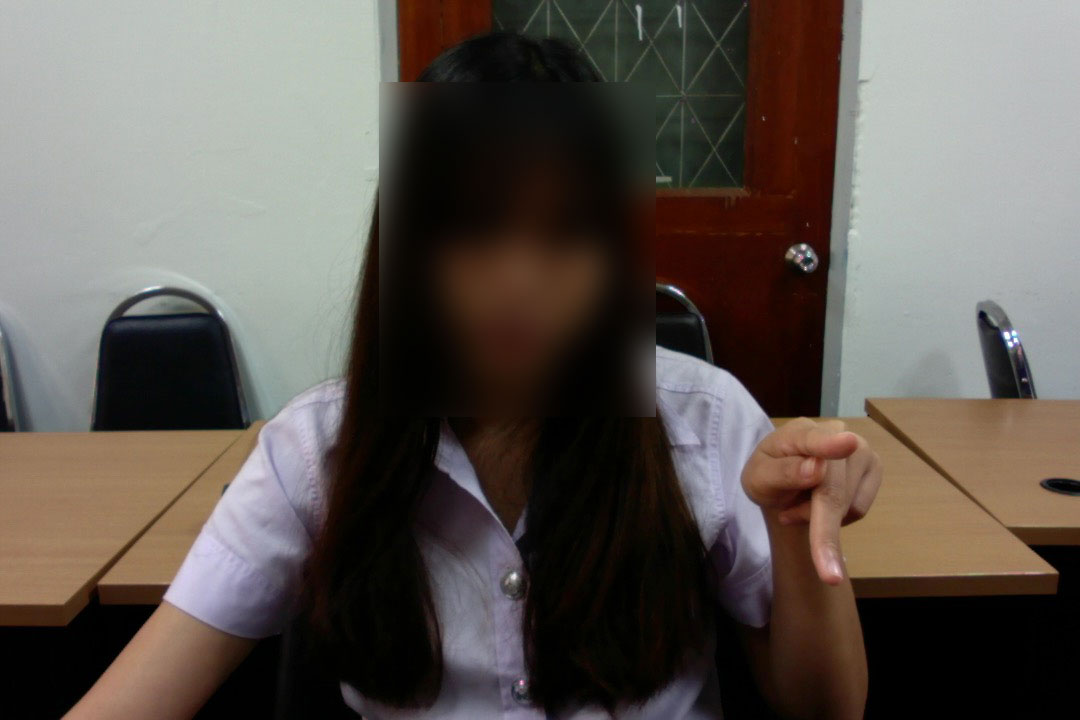por: (739, 401, 890, 594)
